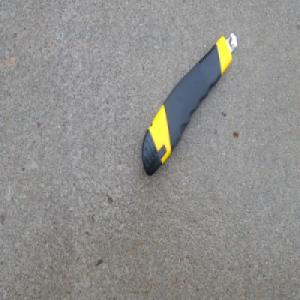Cutter: (140, 31, 237, 179)
